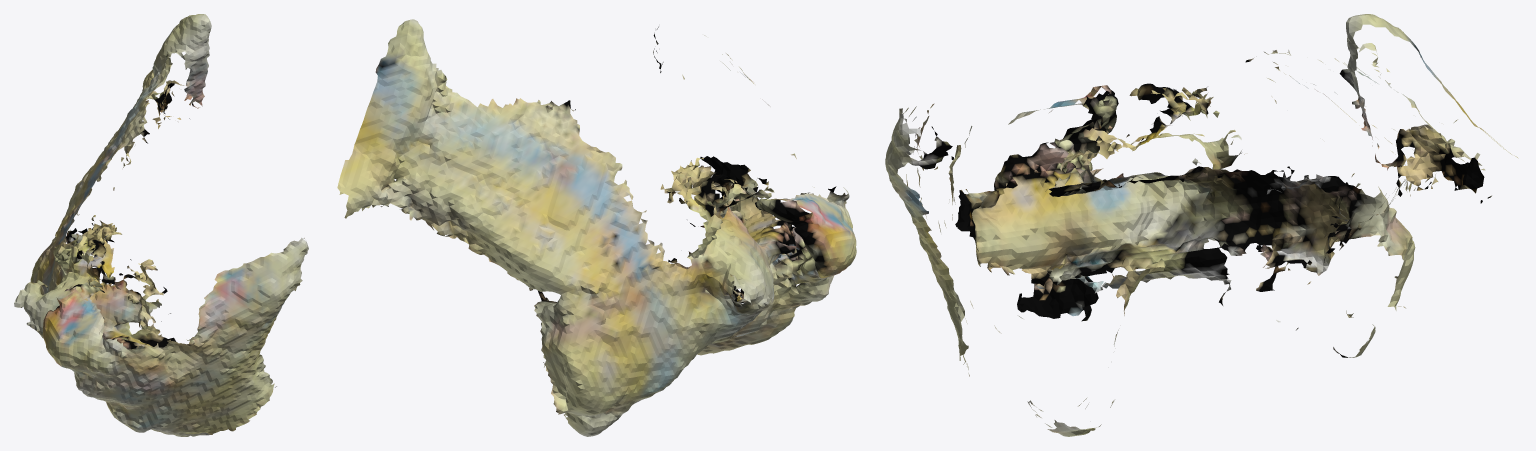
File: kinectfusion_smoothed.glb
3 views of the same model, side by side, from view 1: azimuth 30°, elevation 25°; view 2: azimuth 150°, elevation 25°; view 3: azimuth 270°, elevation 25° (orthographic). The views are drawn at different scales.
Visible parts, largest first — view 1: SM1_kinectfusion.obj; view 2: SM1_kinectfusion.obj; view 3: SM1_kinectfusion.obj.
Boxes of the visible parts, x1,y1,x2,y2 form: SM1_kinectfusion.obj: [14, 14, 308, 436]; SM1_kinectfusion.obj: [337, 19, 856, 436]; SM1_kinectfusion.obj: [885, 14, 1518, 436].
Bounding box in the file's own units: 0.3935 × 0.4597 × 0.5705.
